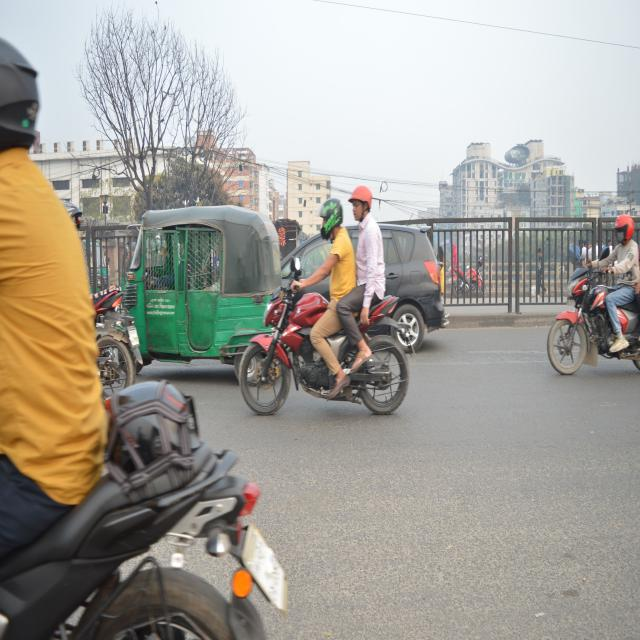car: (279, 222, 452, 350)
motorbike: (0, 369, 267, 640), (225, 272, 416, 422), (542, 252, 640, 366), (84, 289, 145, 403), (447, 253, 494, 295)
